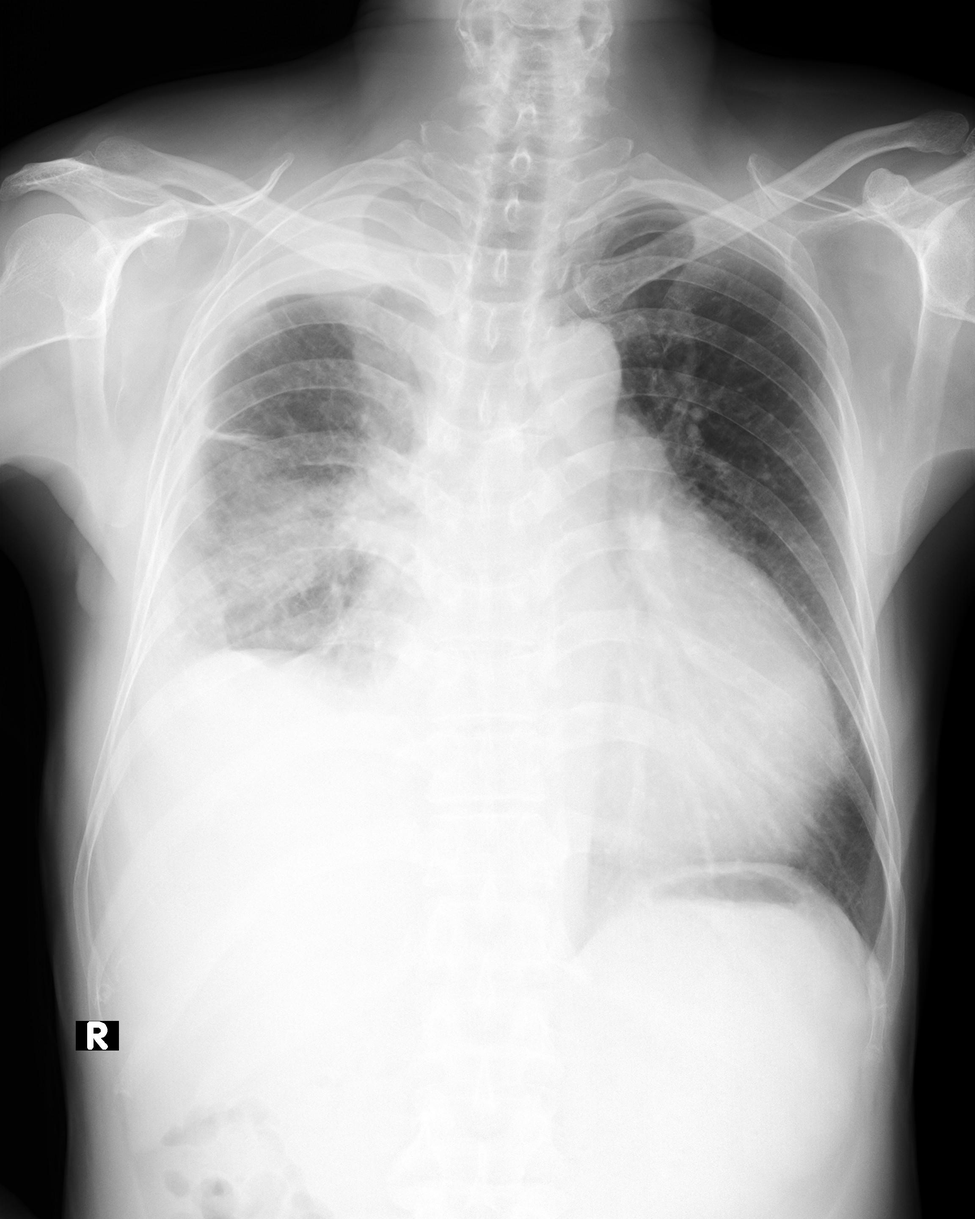Cardiomegaly: (347, 582, 846, 872)
Pulmonary fibrosis: (196, 422, 265, 456)
